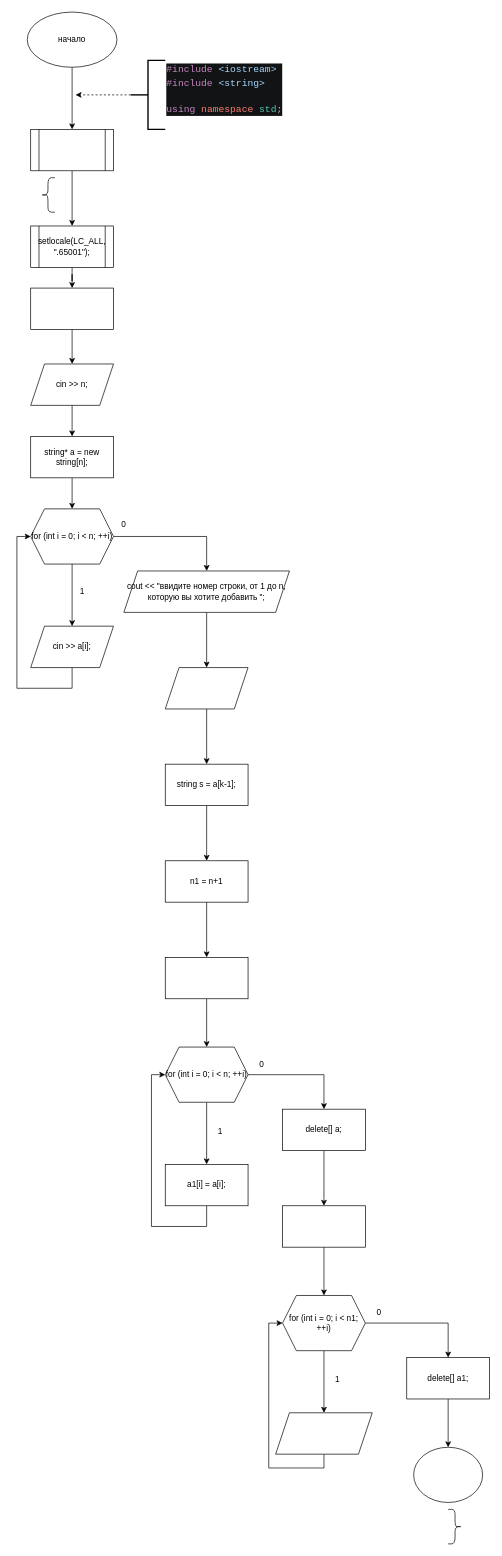
Image size: 502x1556. Some labels were removed from this diagram. Each missing label, with the centre of its shape:
"a1[n-1] = s;" goes at point 323,1226.
"cin >> k;" goes at point 206,688.
"cout << a1[i] << ' ';" goes at point 323,1433.
"int main()" goes at point 72,150.
"int n, k, n1;" goes at point 72,308.
"return 0;" goes at point 448,1474.
"string* a1 = new string[n1];" goes at point 206,978.
